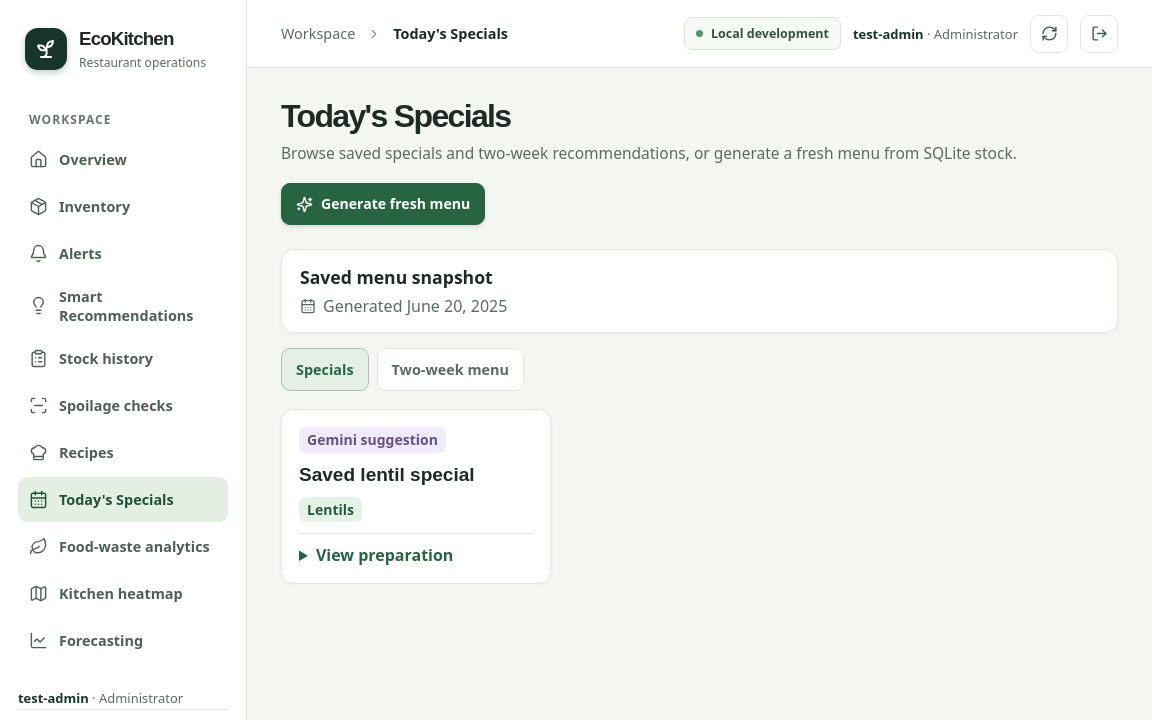
Dashboard Gemini workflows › keeps the saved menu visible when Gemini is unavailable
Expected: the heading "Saved lentil special" is shown, [299,464,475,486]
Click the button "Generate fresh menu": (383, 204) [281,183,485,225]
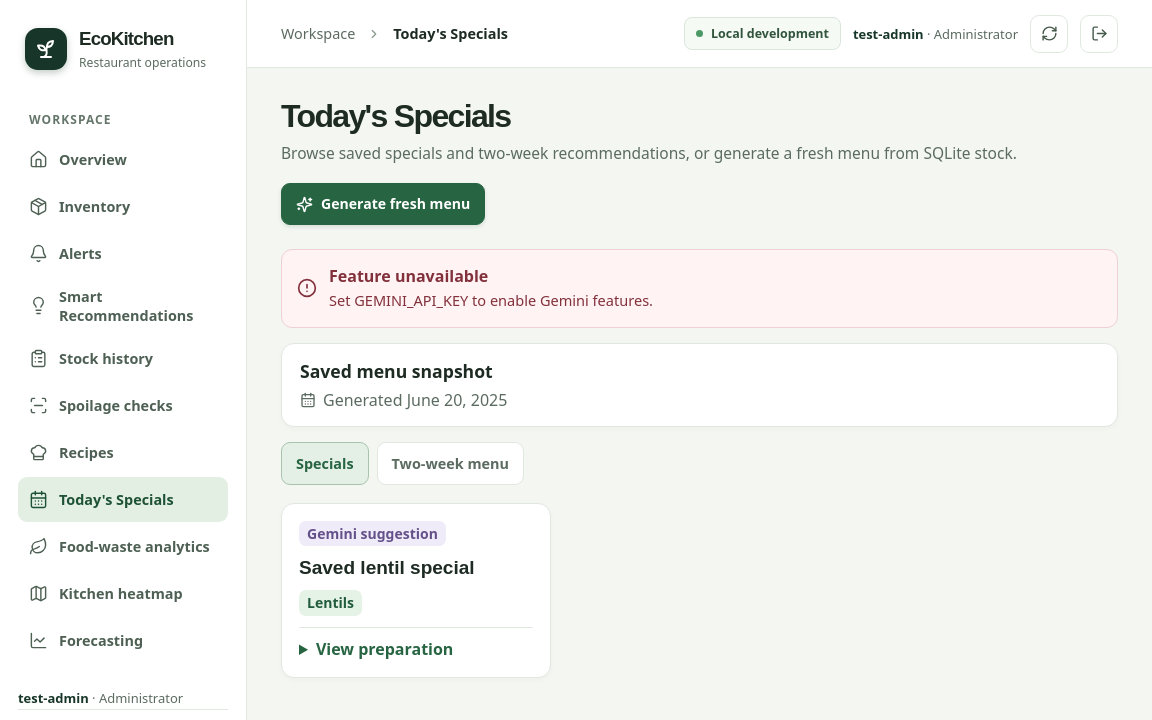
Expected: the heading "Saved lentil special" is shown, [299,557,475,579]
Now the message shows "GEMINI_API_KEY", box [329,290,653,310]
